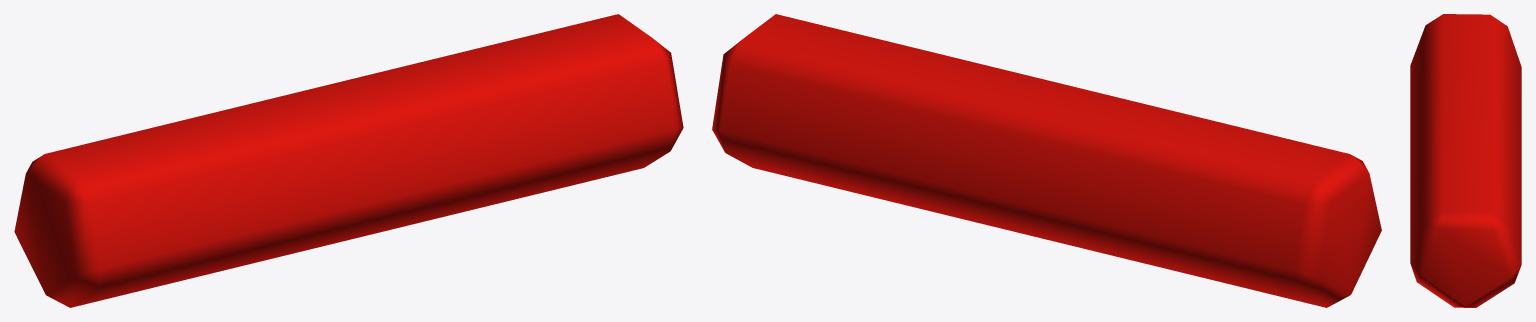
Rendered from Gummy_Log.glb.
3 views of the same model, side by side, from view 1: azimuth 30°, elevation 25°; view 2: azimuth 150°, elevation 25°; view 3: azimuth 270°, elevation 25° (orthographic). The views are drawn at different scales.
Parts seen in each view (by area): view 1: Gummy_Log_0; view 2: Gummy_Log_0; view 3: Gummy_Log_0.
Boxes of the visible parts, x1,y1,x2,y2 form: Gummy_Log_0: [14, 14, 683, 307]; Gummy_Log_0: [712, 14, 1381, 307]; Gummy_Log_0: [1410, 14, 1521, 307].
Bounding box in the file's own units: 2.2 × 0.4734 × 0.4955.
